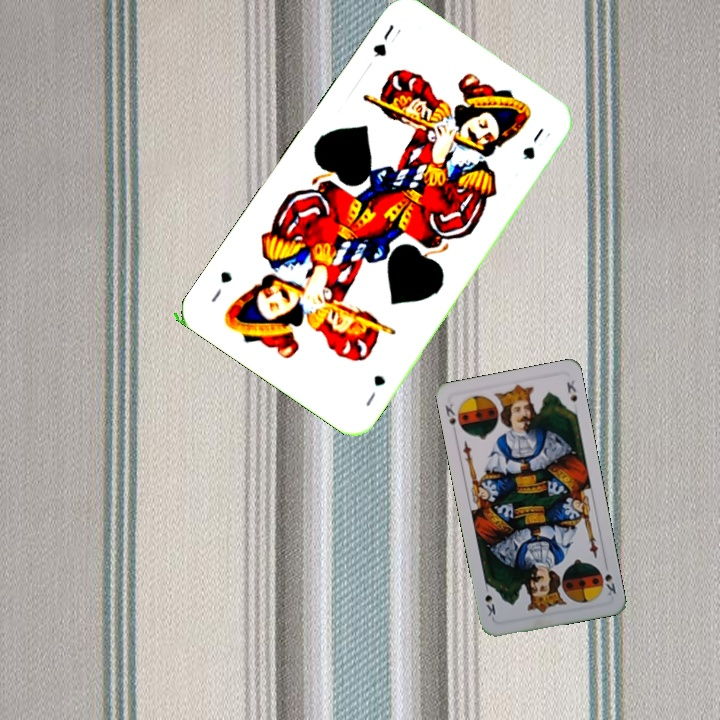GU: (368, 20, 397, 60), (361, 371, 388, 409)
SK: (595, 563, 619, 598), (441, 399, 459, 437)
